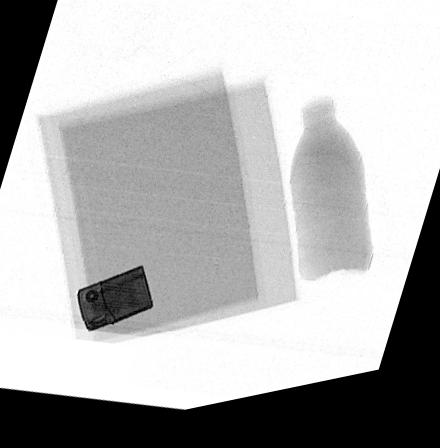Lighter: (76, 271, 154, 337)
